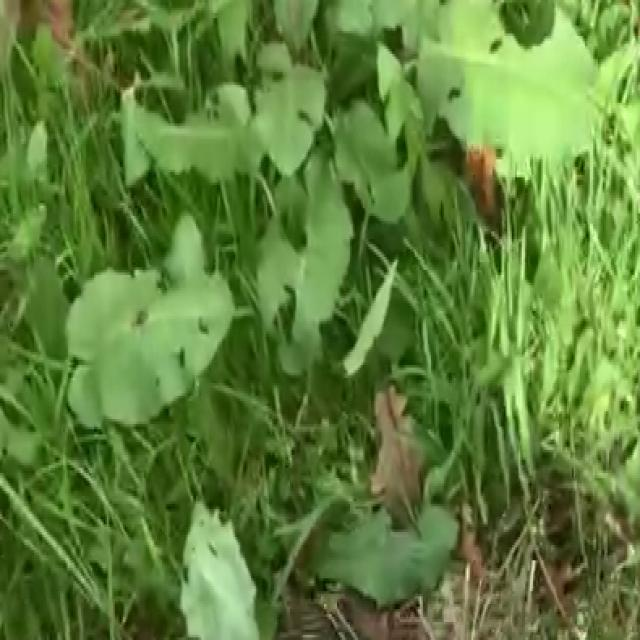organic waste: (87, 0, 611, 355), (157, 426, 465, 640), (18, 262, 288, 491)
